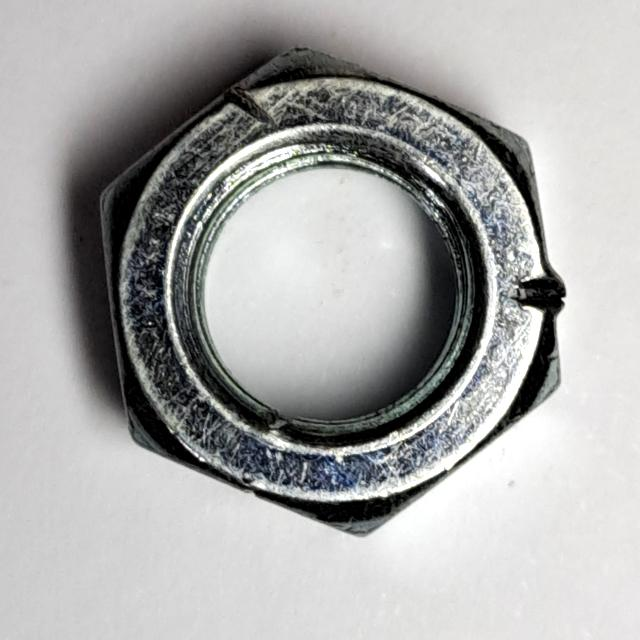Scratches: (83, 27, 590, 556)
